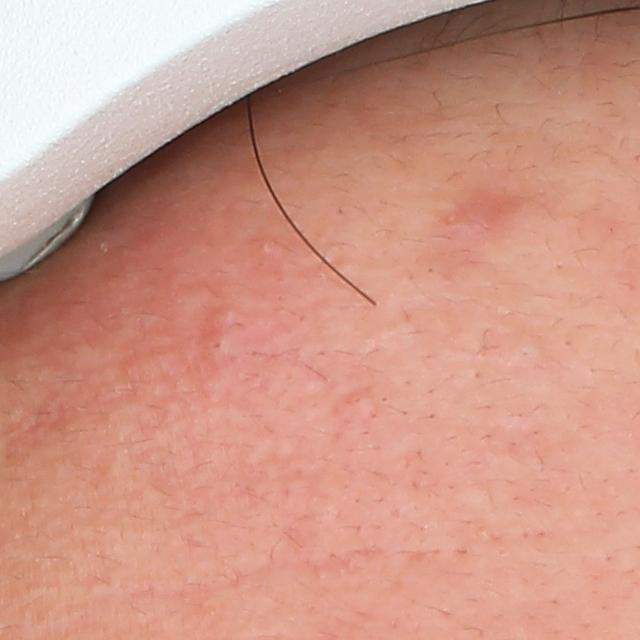comedo: (197, 329, 238, 364)
